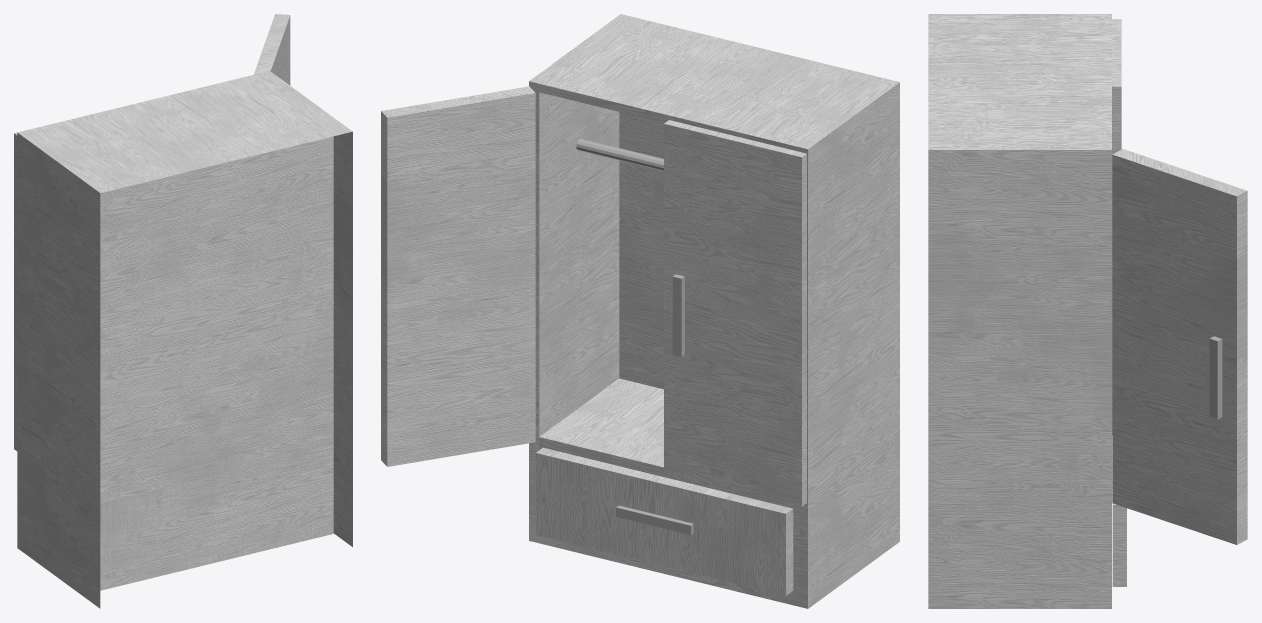
File: wardrobe.fbx
3 views of the same model, side by side, from view 1: azimuth 30°, elevation 25°; view 2: azimuth 150°, elevation 25°; view 3: azimuth 270°, elevation 25° (orthographic). The views are drawn at different scales.
Visible parts, largest first — view 1: polySurface52; view 2: polySurface52, WardrobeHandle2; view 3: polySurface52, WardrobeHandle2.
Boxes of the visible parts, <box> form: polySurface52: <box>14,14,352,608</box>; polySurface52: <box>381,14,899,608</box>; WardrobeHandle2: <box>576,138,693,534</box>; polySurface52: <box>928,14,1247,608</box>; WardrobeHandle2: <box>1209,336,1222,419</box>.
Size of the model in its own units: 2351 by 2833 by 1785.
Materials: 2 (2 with a texture image).
